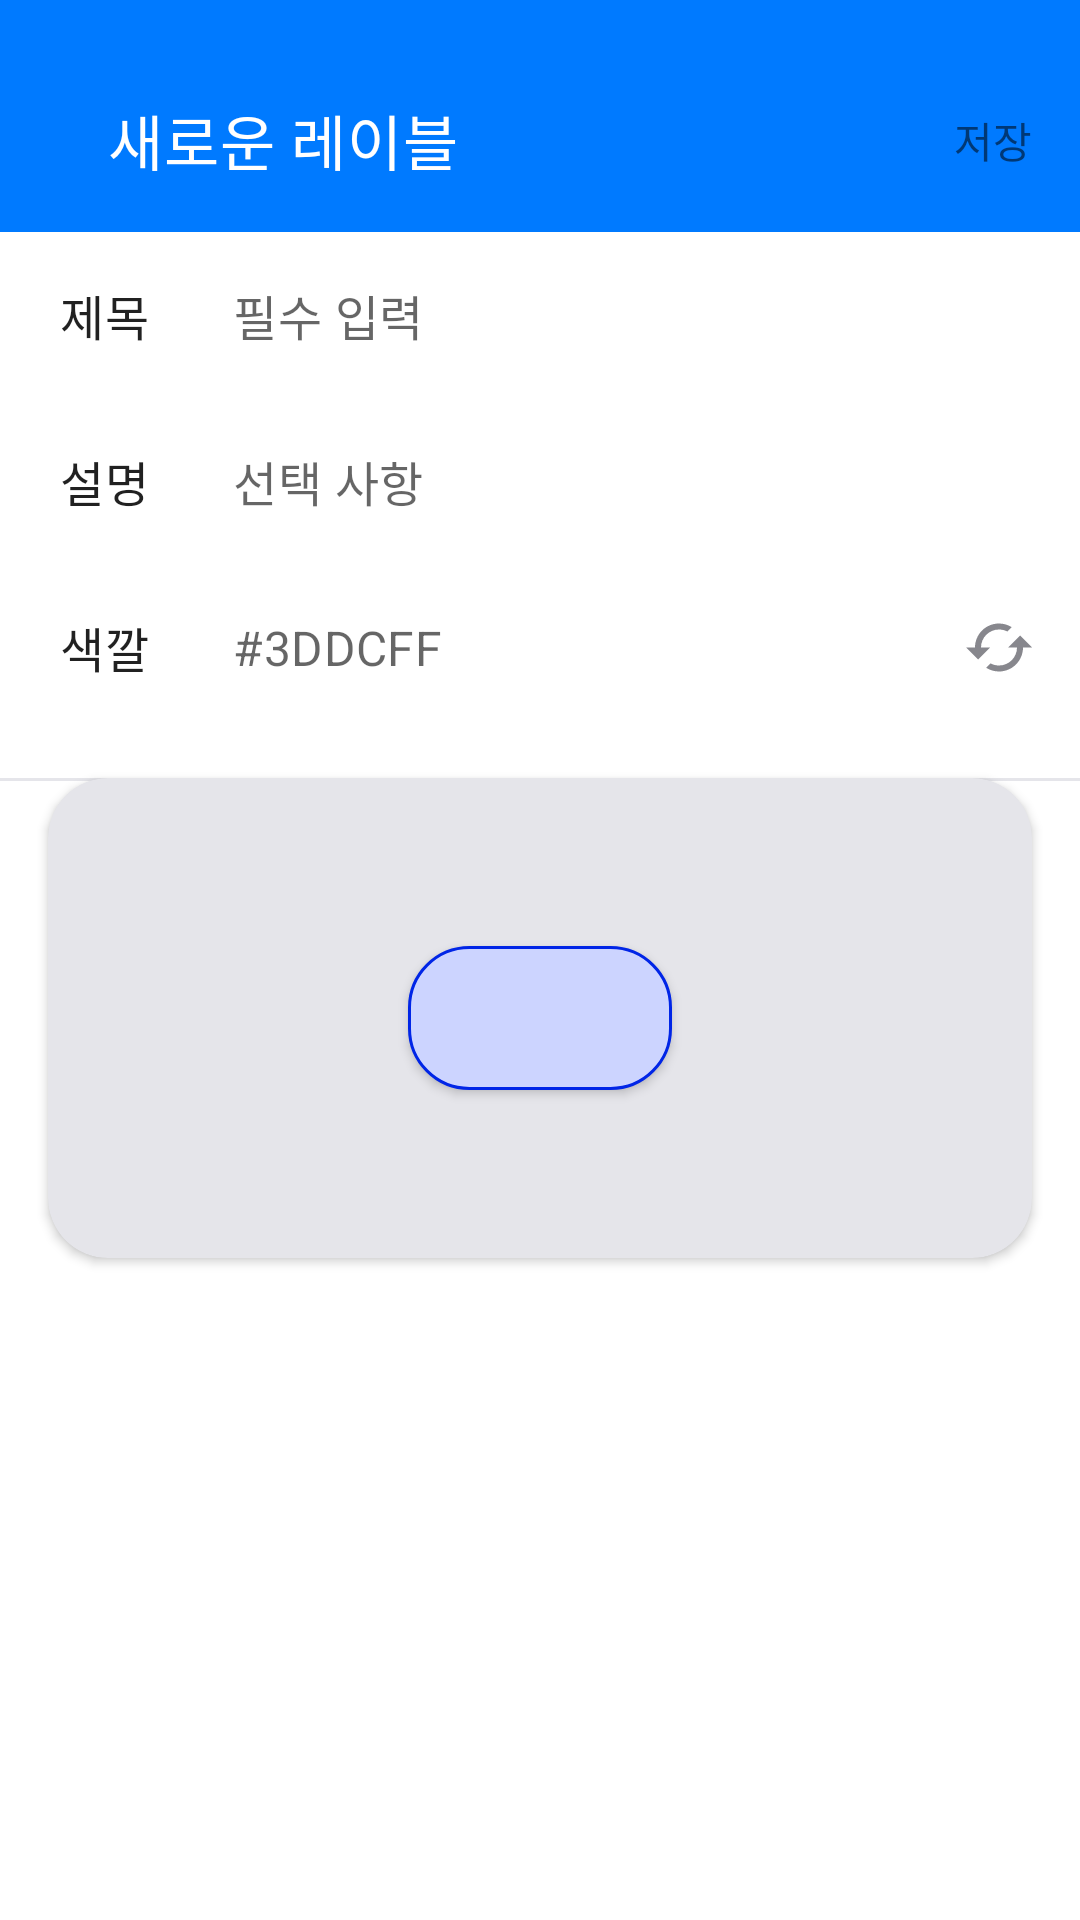

Icon click points for this 1080w x 1920h phone screenshot, format (x=x, y=y):
refresh: (x=999, y=647)
